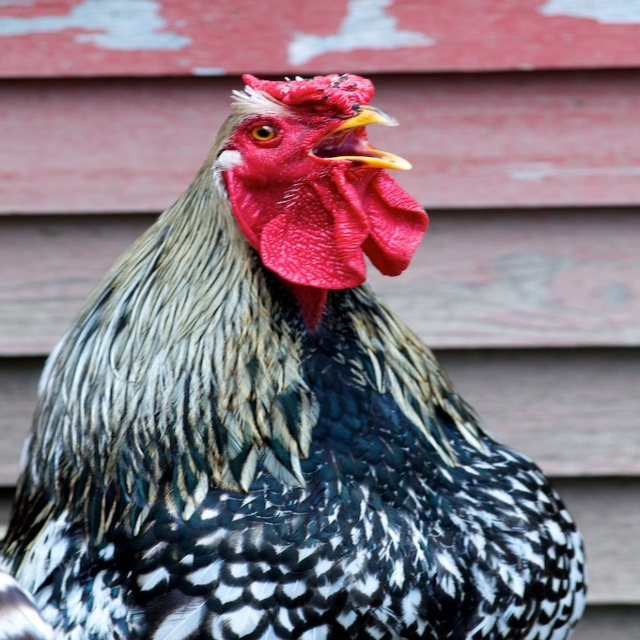Chicken: (1, 72, 587, 640)
